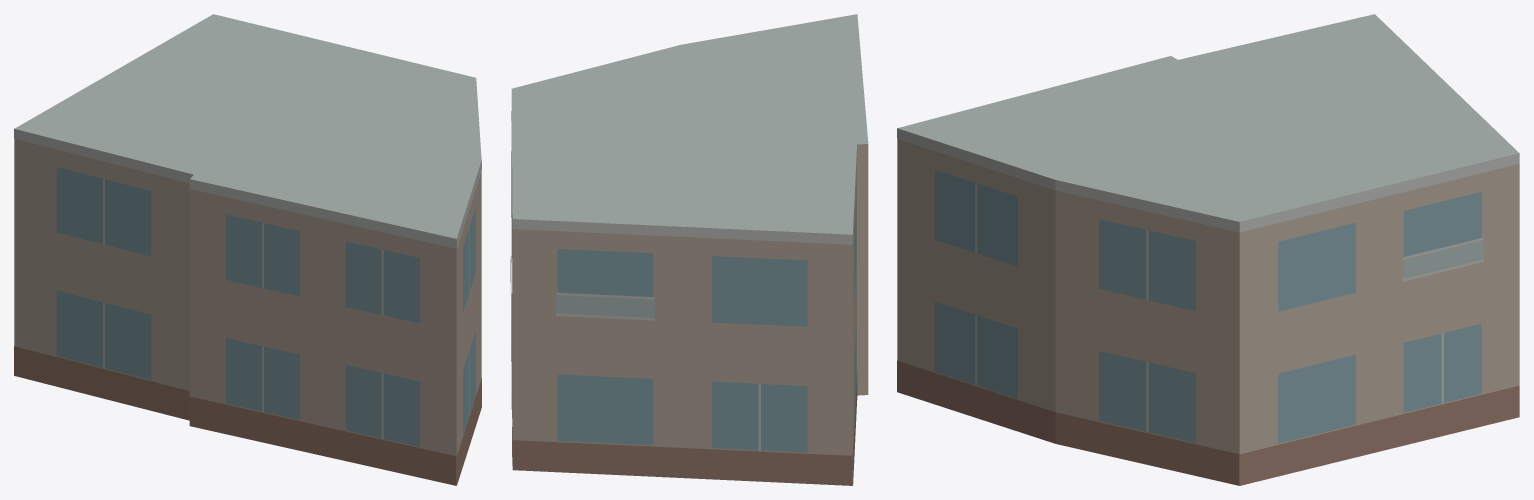
File: survey-upis-32680462.glb
3 views of the same model, side by side, from view 1: azimuth 30°, elevation 25°; view 2: azimuth 150°, elevation 25°; view 3: azimuth 270°, elevation 25° (orthographic). The views are drawn at different scales.
Visible parts, largest first — view 1: survey-upis-32680462.tmp; view 2: survey-upis-32680462.tmp; view 3: survey-upis-32680462.tmp.
Part boxes in pixels (x1,y1,x2,y2): survey-upis-32680462.tmp: (14, 14, 481, 485); survey-upis-32680462.tmp: (510, 14, 868, 485); survey-upis-32680462.tmp: (897, 14, 1519, 485).
Size of the model in its own units: 10.32 by 6.1 by 13.05.
